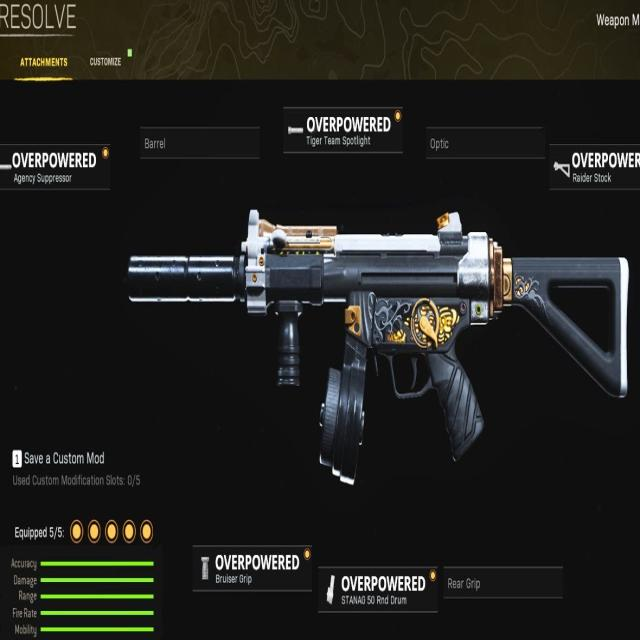Weapon: (127, 209, 629, 482)
